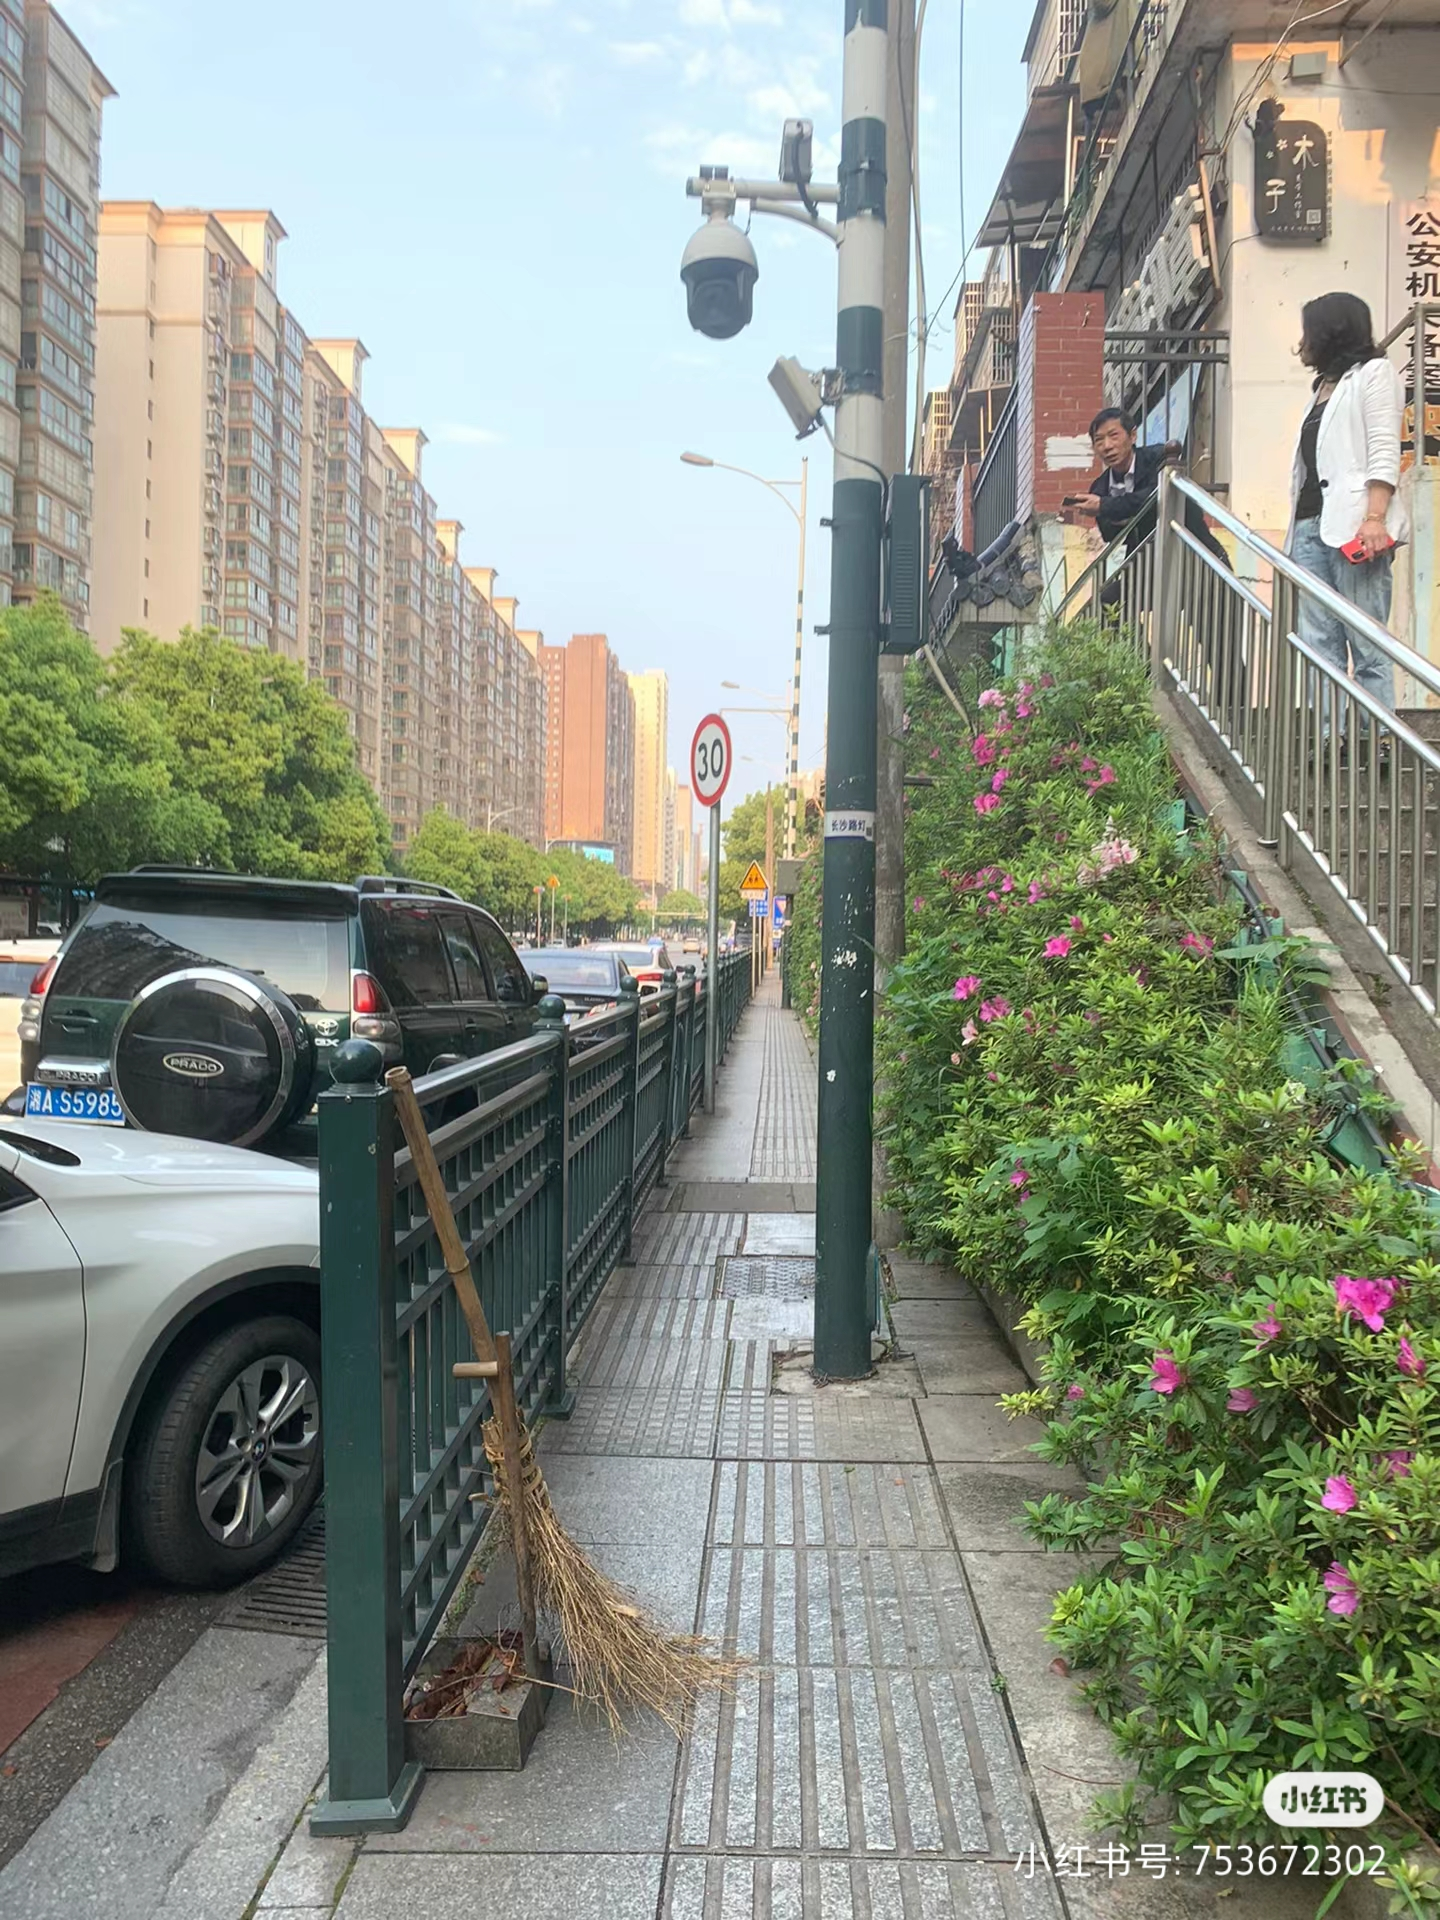pl30: (681, 711, 728, 801)
w55: (737, 856, 771, 893)
